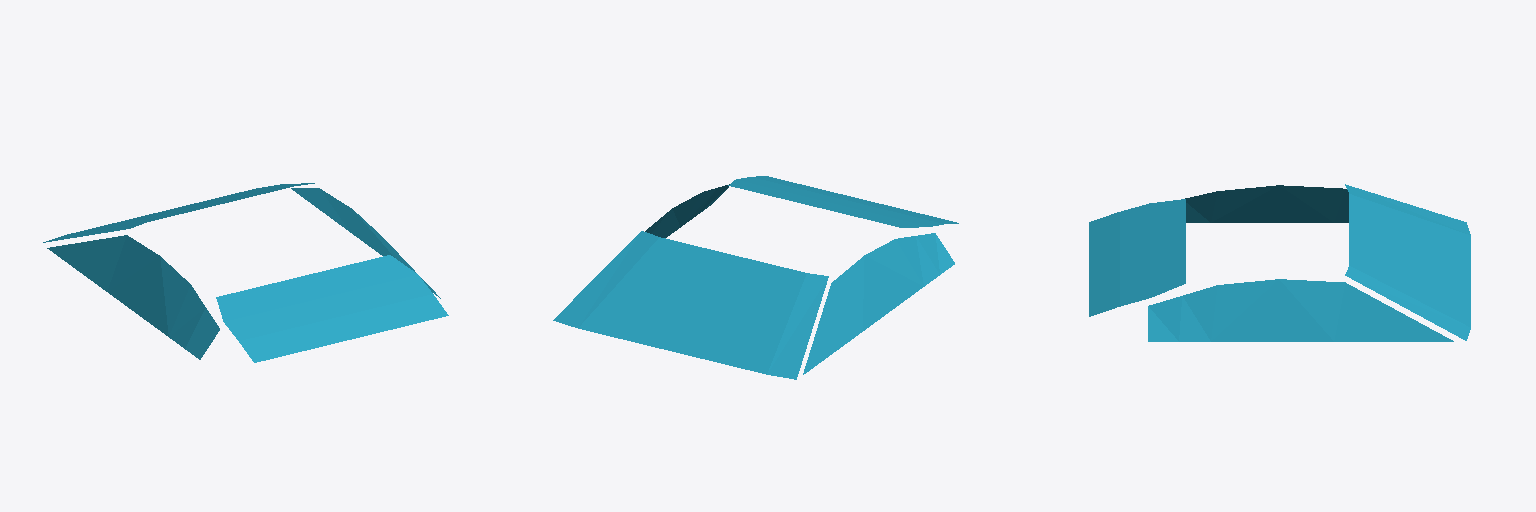
Rendered from carWindow.obj.
3 renders of one model, left to right at view 1: azimuth 30°, elevation 25°; view 2: azimuth 150°, elevation 25°; view 3: azimuth 270°, elevation 25°, orthographic.
Visible parts, largest first — view 1: window_Cube.003; view 2: window_Cube.003; view 3: window_Cube.003.
Part boxes in pixels (x1,y1,x2,y2): window_Cube.003: (43,183,448,362); window_Cube.003: (553,176,958,379); window_Cube.003: (1089,184,1470,341).
Size of the model in its own units: 1.84 by 0.379 by 2.49.